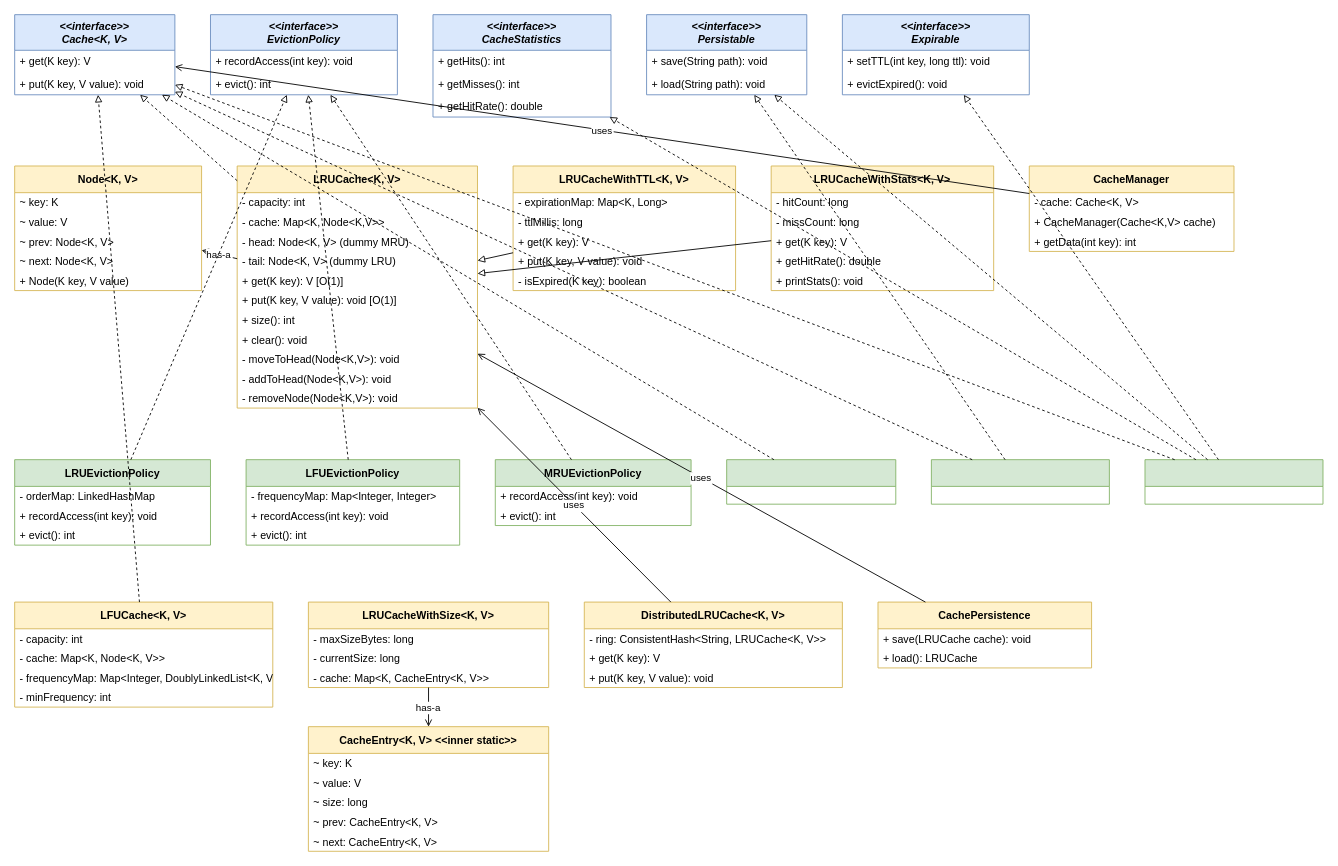
Image size: 1338x866. Some labels were removed from this diagram. Each missing label, with the centre of its shape:
"FullFeaturedCache" belongs at pixel 1233 481.
"PersistentLRUCache" belongs at pixel 1019 481.
"SimpleLRUCache" belongs at pixel 811 481.
